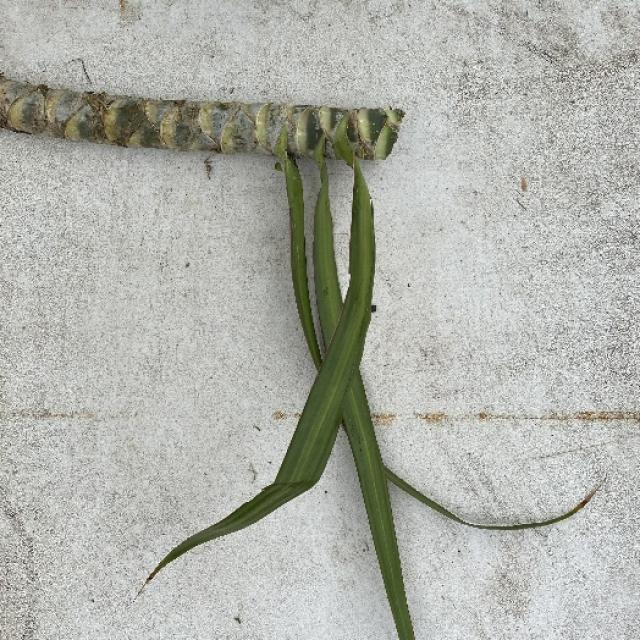organik: (0, 49, 611, 639)
